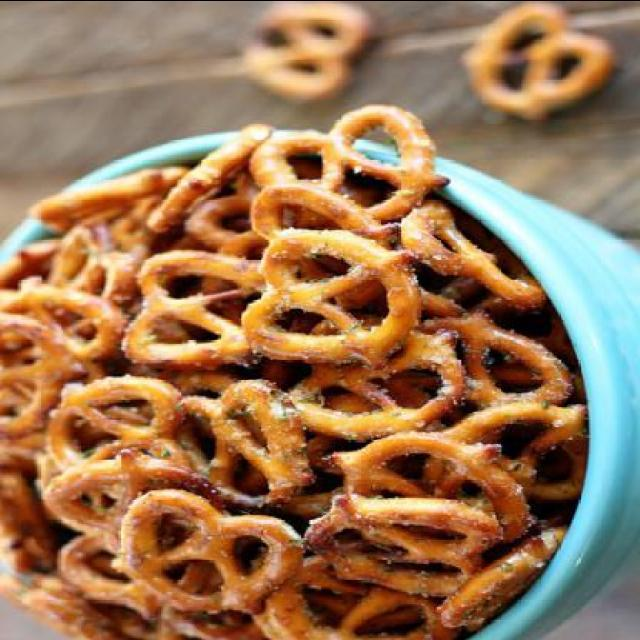Salatini packaged: (7, 106, 579, 630)
